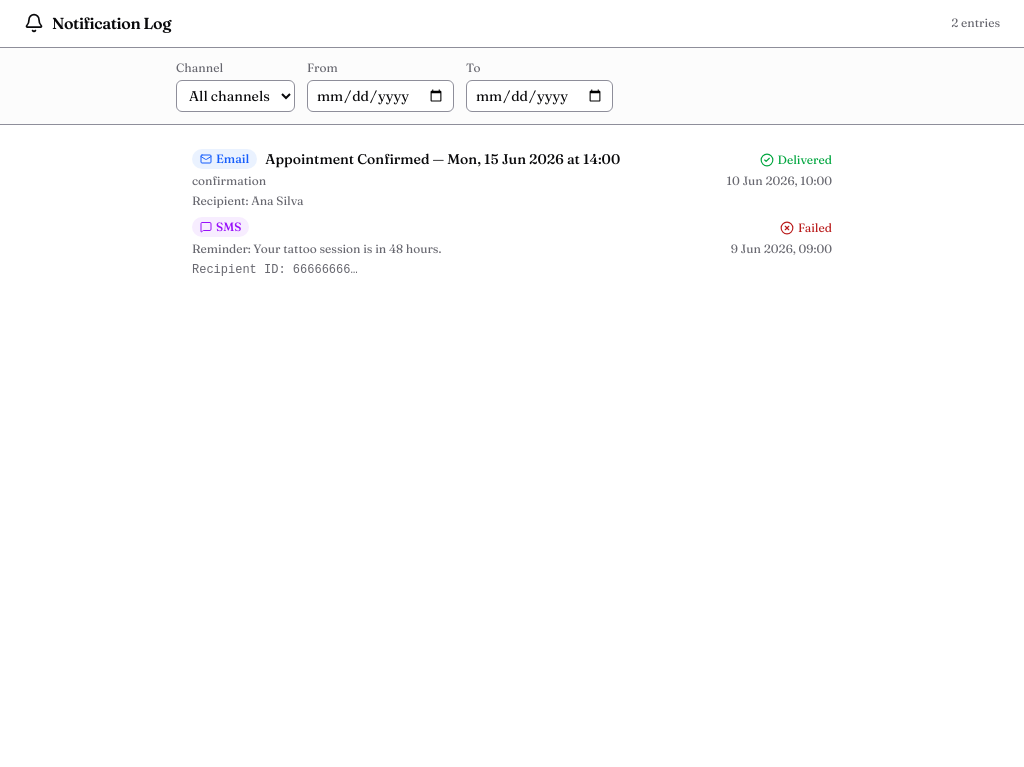
NotificationLogListPage › SMS notification modal shows plain text body, not an iframe
The width and height of the screenshot is (1024, 767).
Check: the text "Appointment Confirmed — Mon, 15 Jun 2026 at 14:00" is shown, box [265,149,620,169]
Click the button with aria-label "Open notification: Sms": (221, 227) [192,217,832,278]
(page scrolled)
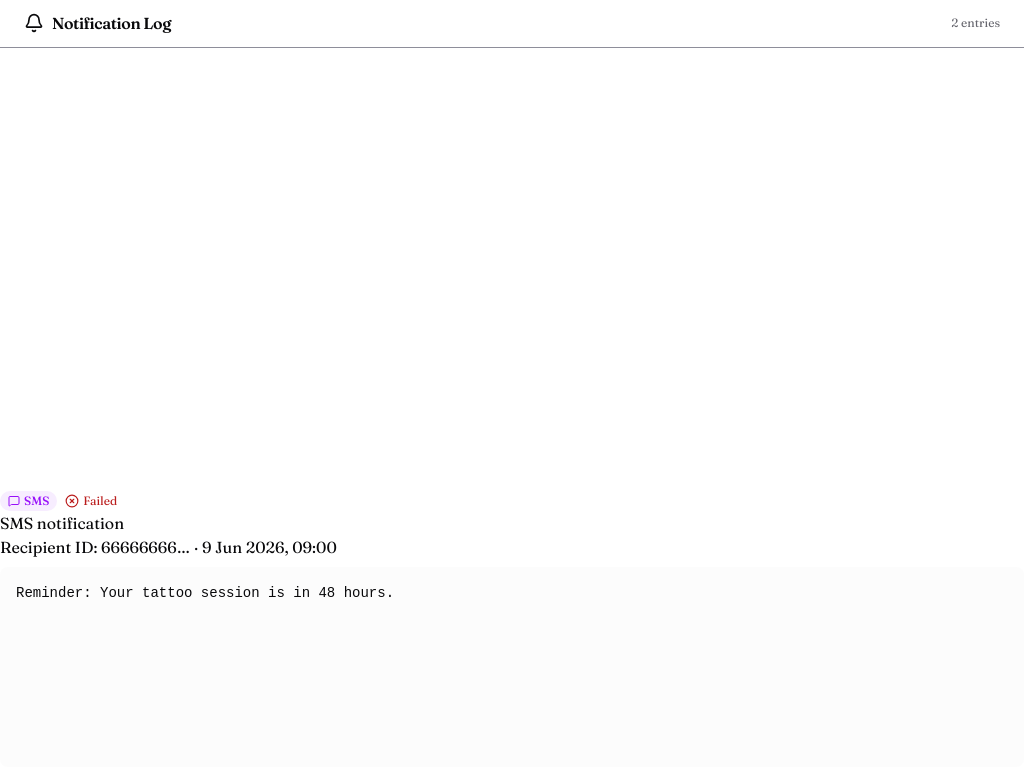
Check: the text "Reminder: Your tattoo session is in 48 hours." is shown, box [0,567,1023,766]
